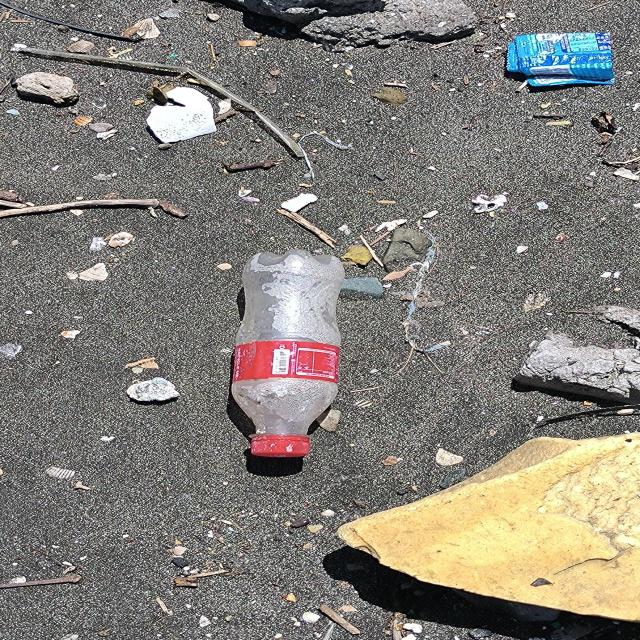plastic_waste: (231, 249, 349, 459), (506, 30, 617, 88)
